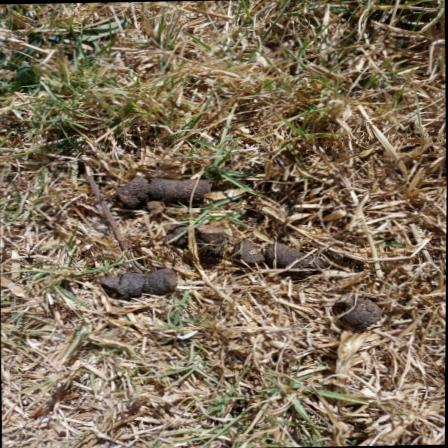dog-poop: (169, 220, 307, 278), (113, 168, 218, 210), (332, 283, 395, 332), (99, 260, 170, 292)
